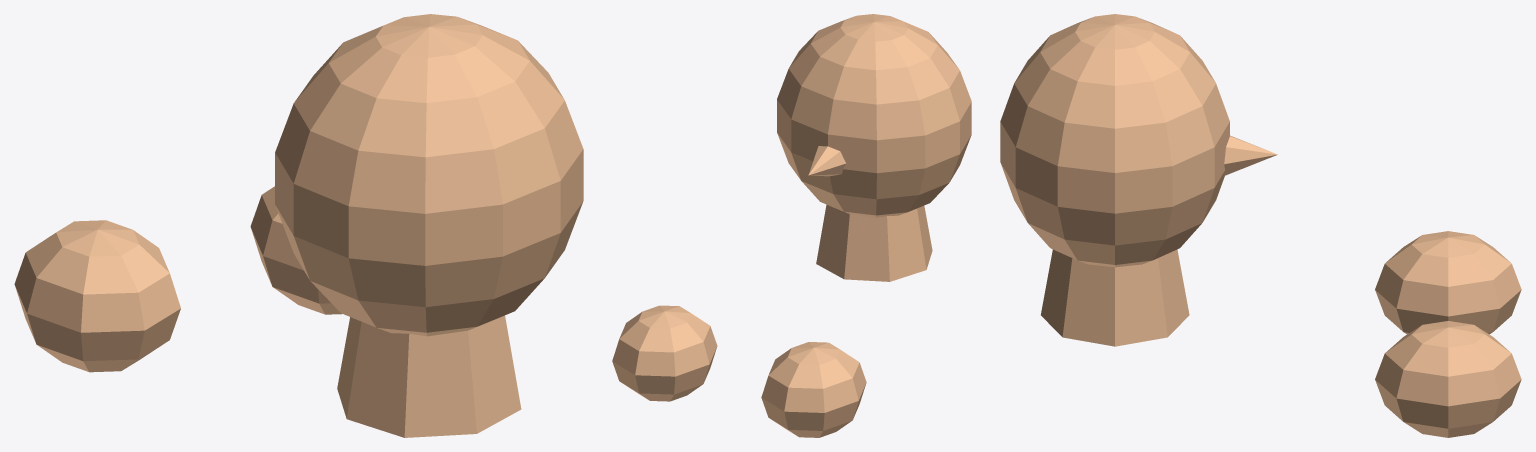
Rendered from player_skin_whole.glb.
3 views of the same model, side by side, from view 1: azimuth 30°, elevation 25°; view 2: azimuth 150°, elevation 25°; view 3: azimuth 270°, elevation 25° (orthographic). The views are drawn at different scales.
Visible parts, largest first — view 1: player_skin_whole_0; view 2: player_skin_whole_0; view 3: player_skin_whole_0.
Part boxes in pixels (left/top/right/bottom): player_skin_whole_0: left=14, top=14, right=583, bottom=437; player_skin_whole_0: left=612, top=14, right=971, bottom=437; player_skin_whole_0: left=1000, top=14, right=1521, bottom=437.
Size of the model in its own units: 0.48 by 0.563 by 0.7355.
